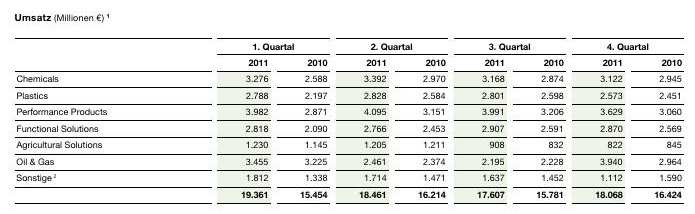table: (0, 0, 695, 214)
